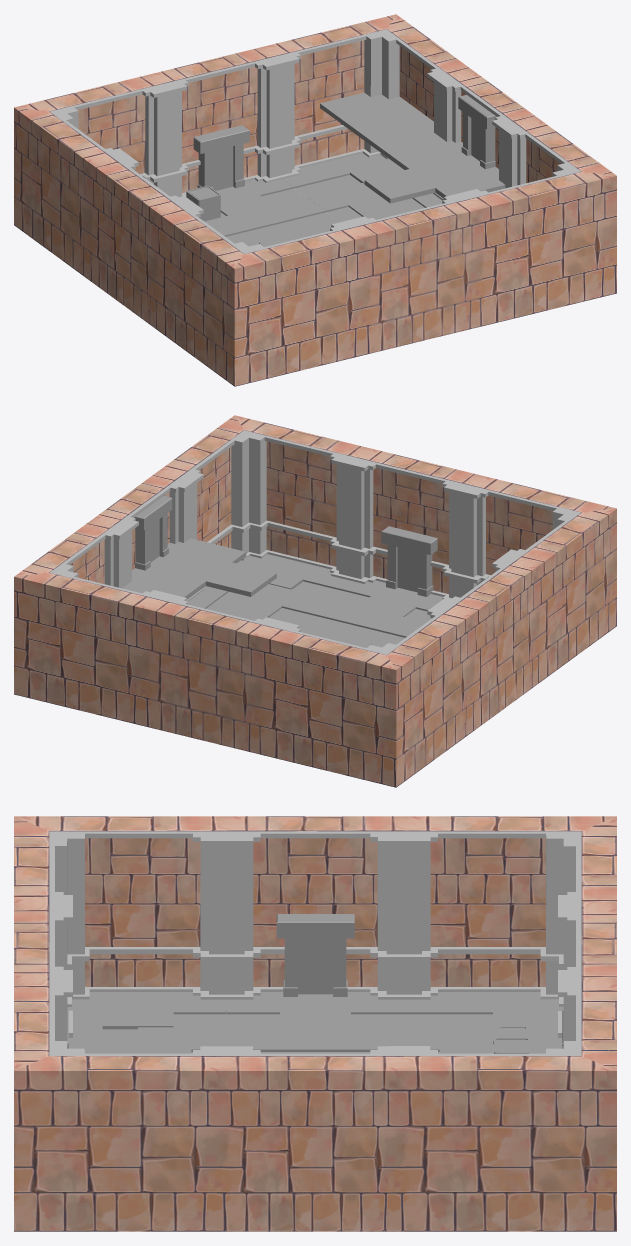
The model's file is Salle_entre_passe_props (1).fbx.
3 renders of one model, top to bottom at view 1: azimuth 30°, elevation 25°; view 2: azimuth 150°, elevation 25°; view 3: azimuth 270°, elevation 25°, orthographic. The views are drawn at different scales.
Parts seen in each view (by area): view 1: mur_angle_clean_passe1, mur_angle_clean_passe, mur_angle_clean_passe3, mur_angle_clean_passe2, mur_porte_clean8, mur_porte_clean6, mur_porte_clean7, sol_12, sol_16, plateforme_1, plateforme_2, mur_porte_clean5 (+5 smaller); view 2: mur_angle_clean_passe3, mur_angle_clean_passe2, mur_angle_clean_passe, mur_angle_clean_passe1, mur_porte_clean6, mur_porte_clean8, mur_porte_clean7, sol_13, sol_17, plateforme_2, mur_porte_clean5, porte_seule (+3 smaller); view 3: mur_angle_clean_passe, mur_angle_clean_passe2, mur_angle_clean_passe3, mur_angle_clean_passe1, mur_porte_clean5, mur_porte_clean7, sol_14, sol_18, sol_11, mur_porte_clean6, mur_porte_clean8, caisse_metal_passe_A2.
Part boxes in pixels (x1,y1,x2,y2): mur_angle_clean_passe1: (156,203,369,386); mur_angle_clean_passe: (461,119,616,326); mur_angle_clean_passe3: (14,74,170,281); mur_angle_clean_passe2: (261,14,473,195); mur_porte_clean8: (348,193,481,353); mur_porte_clean6: (149,47,282,197); mur_porte_clean7: (92,155,193,329); sol_12: (204,179,333,242); sol_16: (283,153,436,220); plateforme_1: (320,92,439,154); plateforme_2: (384,137,505,198); mur_porte_clean5: (436,71,538,200); mur_angle_clean_passe3: (261,604,474,787); mur_angle_clean_passe2: (14,520,169,727); mur_angle_clean_passe: (157,415,369,596); mur_angle_clean_passe1: (460,475,616,682); mur_porte_clean6: (149,594,282,754); mur_porte_clean8: (348,448,481,599); mur_porte_clean7: (437,556,538,730); sol_13: (297,580,442,643); sol_17: (194,554,347,621); plateforme_2: (126,538,246,599); mur_porte_clean5: (92,472,194,601); porte_seule: (134,496,172,570); mur_angle_clean_passe: (14,981,226,1231); mur_angle_clean_passe2: (404,981,616,1231); mur_angle_clean_passe3: (404,816,616,1021); mur_angle_clean_passe1: (14,816,226,1021); mur_porte_clean5: (226,1046,404,1231); mur_porte_clean7: (226,816,404,999); sol_14: (226,992,404,1053); sol_18: (67,992,226,1053); sol_11: (404,992,563,1053); mur_porte_clean6: (558,906,616,1048); mur_porte_clean8: (14,906,72,1048); caisse_metal_passe_A2: (494,1038,529,1053).
Size of the model in its own units: 1700 by 500 by 1700.
